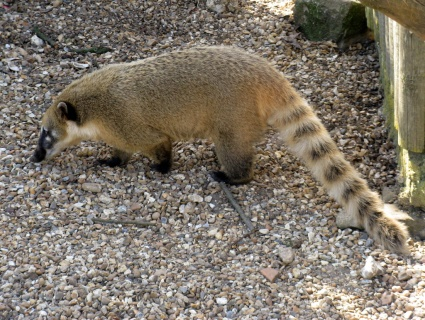Raccoon: (25, 45, 413, 255)
